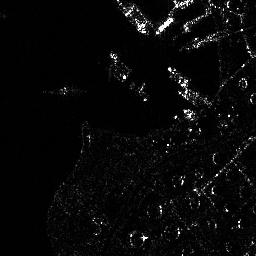ship: (109, 53, 146, 90), (166, 65, 190, 85), (154, 16, 174, 35)
